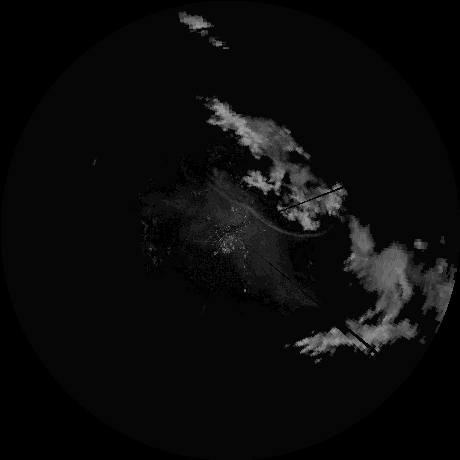frontgust: (218, 190, 321, 238)
